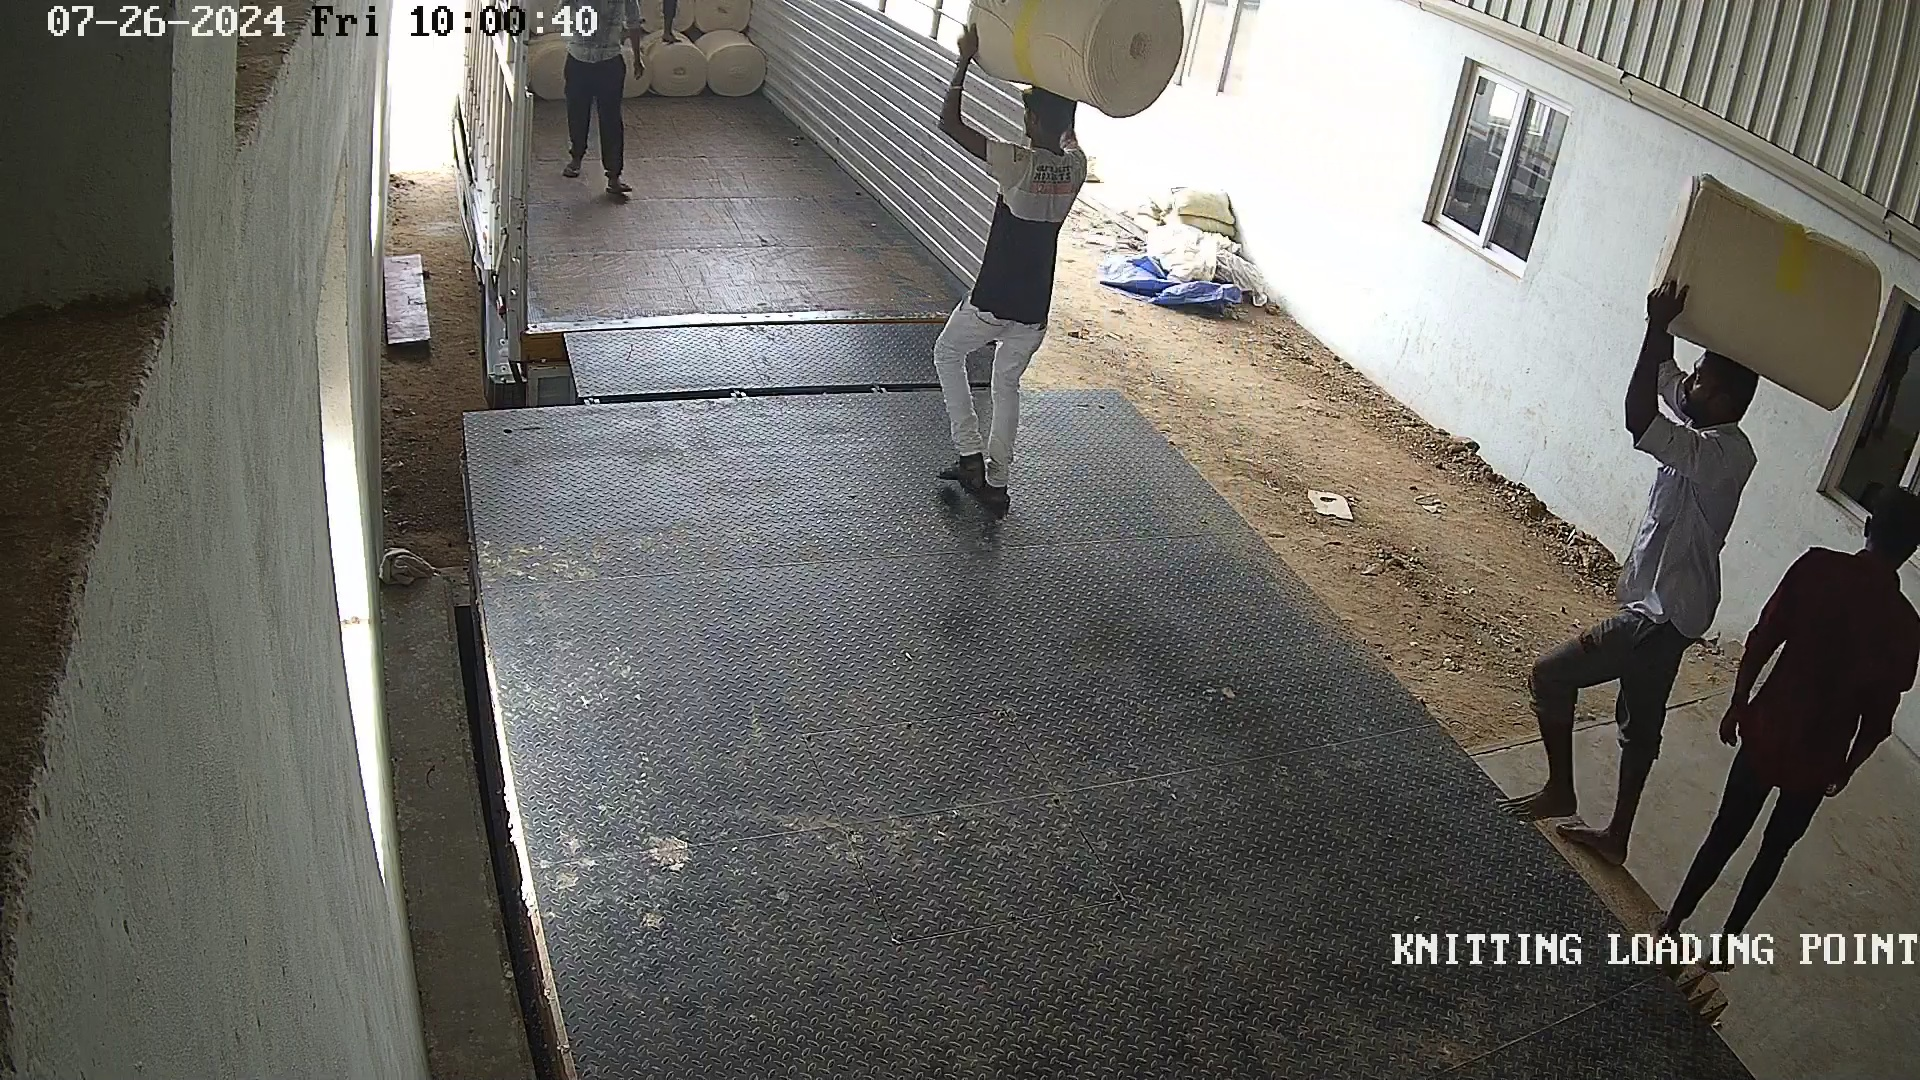bag: (944, 1, 1197, 125)
